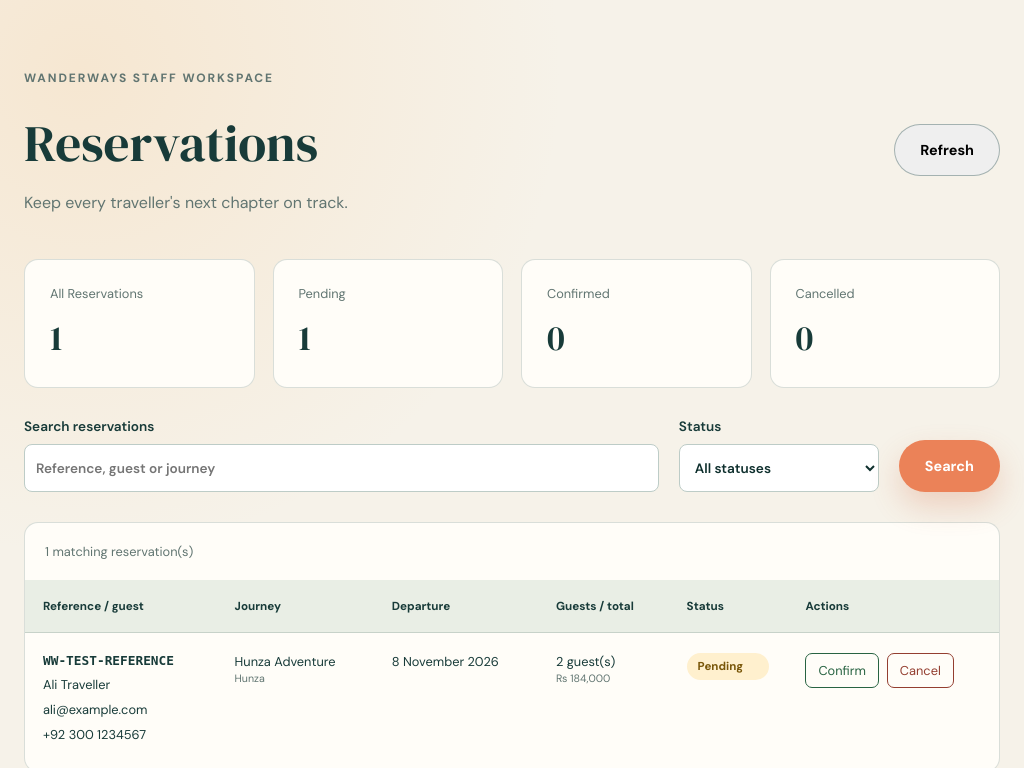
it: Staff reservation experience › confirms a pending reservation
Step 1. Click the button "Confirm" → (842, 670), box [805,653,879,688]
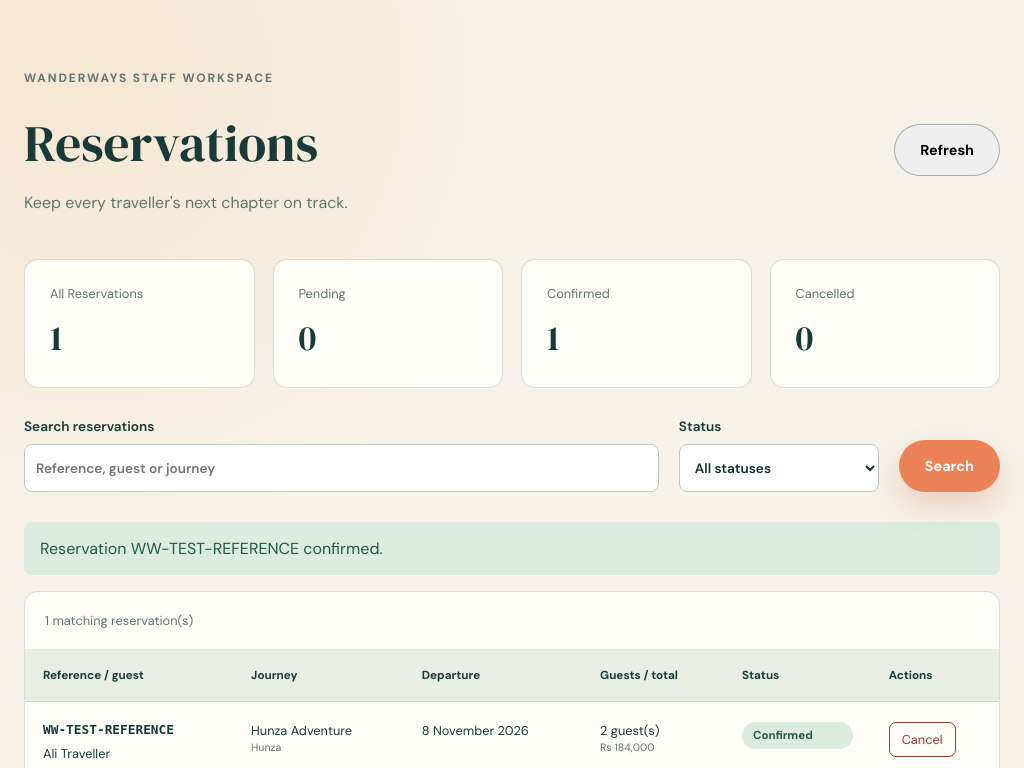
Check: the text "Reservation WW-TEST-REFERENCE confirmed." is shown, box [24,522,1000,575]
